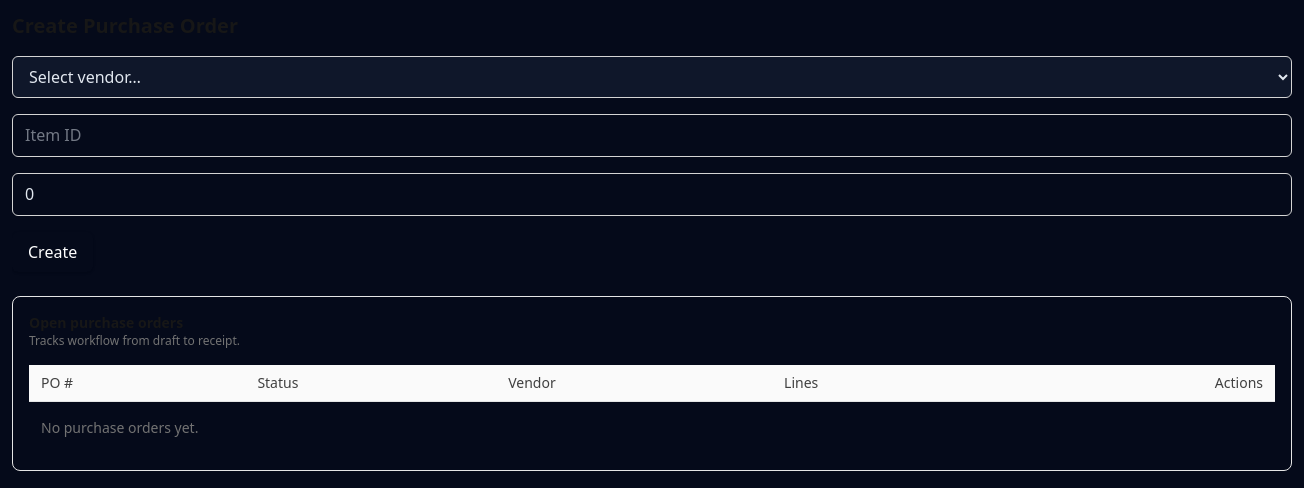
it: PurchaseOrderPage › creates a draft and surfaces it in the table
The width and height of the screenshot is (1304, 488).
Select "Vendor One (vendor@example.com)" in the dropdown at point(652, 77), box [12,56,1292,98]
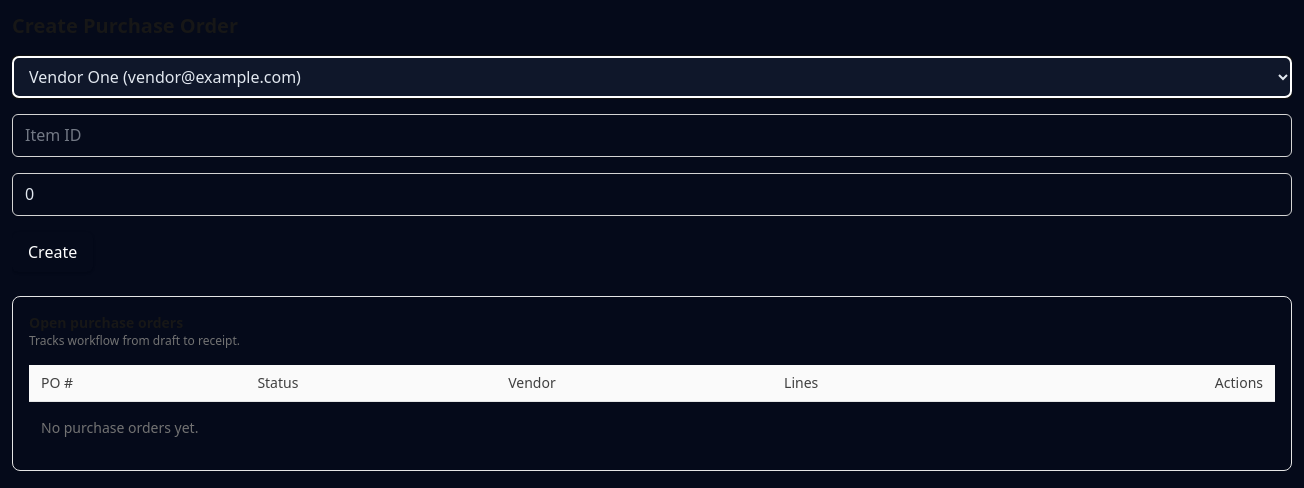
Type "part-123" into the field with placeholder "Item ID" at point(652, 135), box [12,114,1292,157]
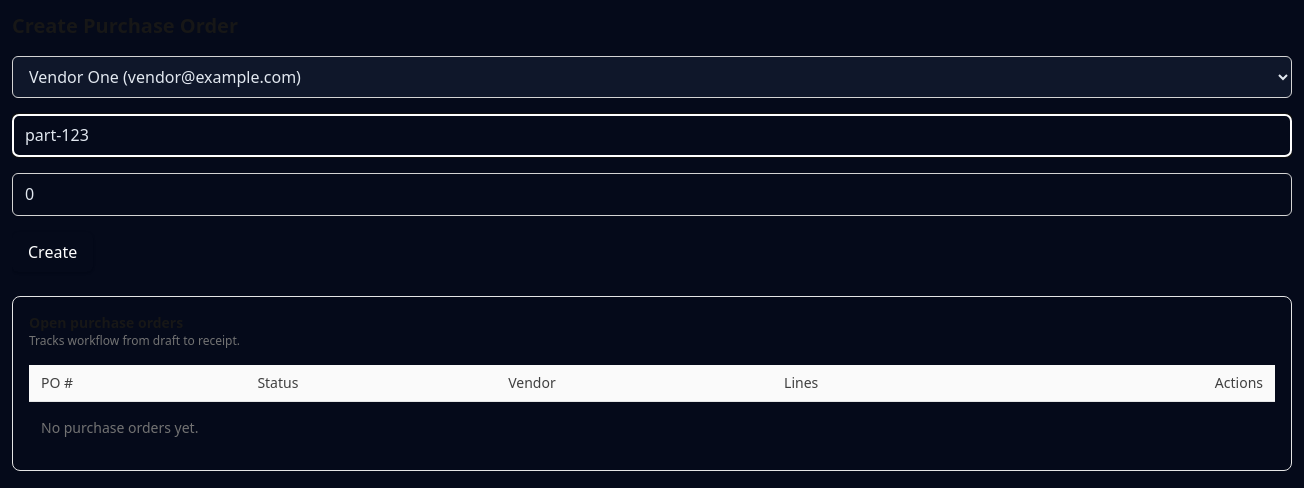
Type "2" into the number field with placeholder "Quantity" at point(652, 194), box [12,173,1292,216]
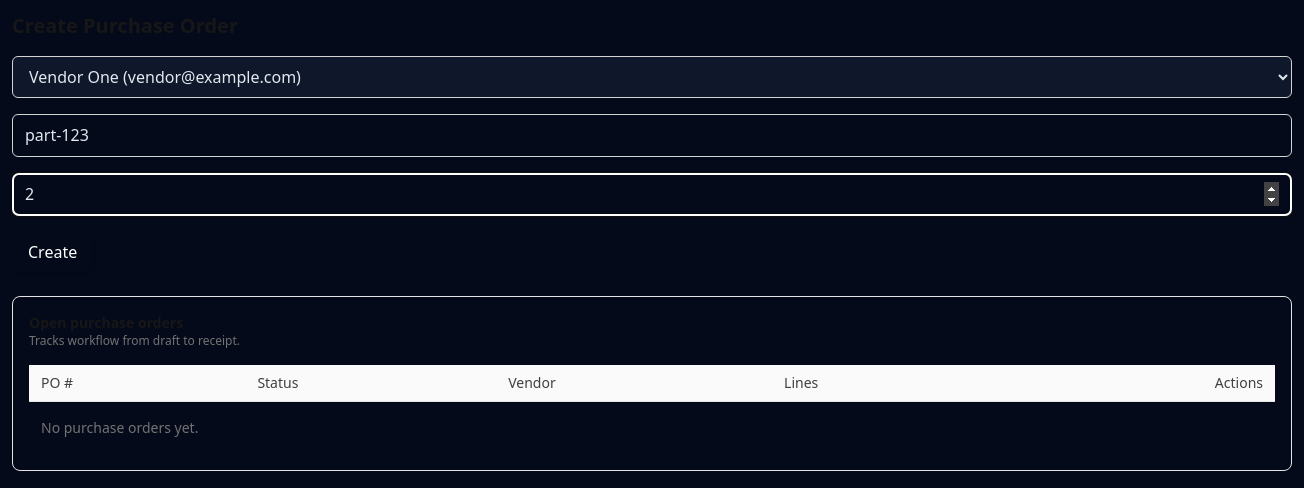
Click the button "Create" at point(53, 252), box [12,232,93,272]
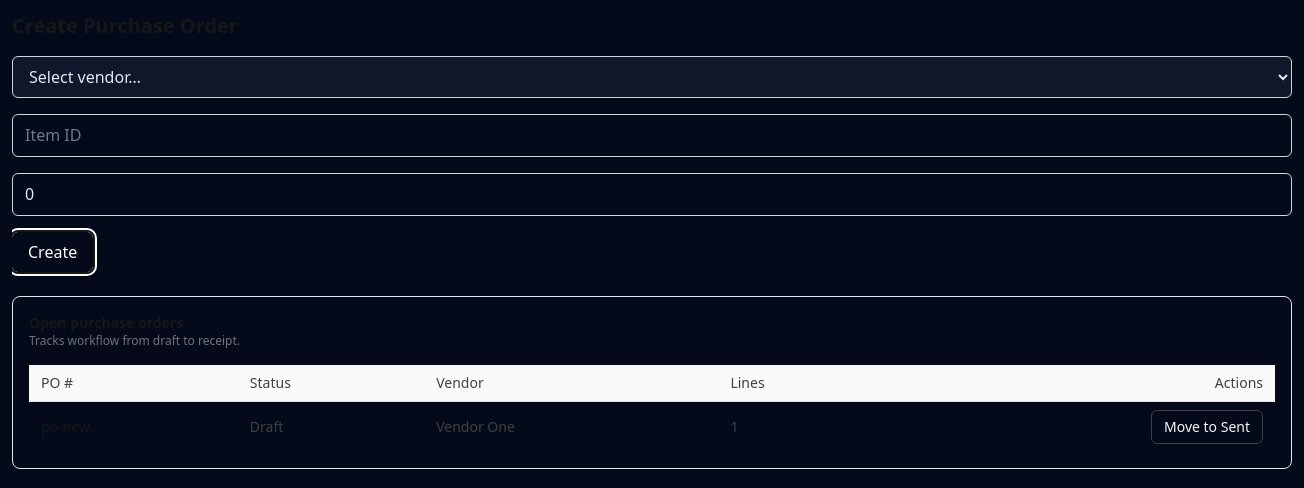
Check: the text "po-new" is shown, box [29,402,238,452]
Check: the text "Draft" is shown, box [238,402,424,452]
